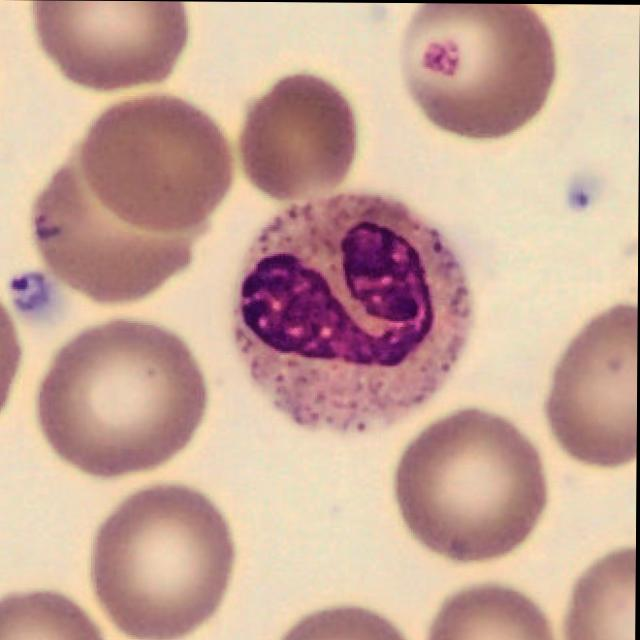Neutrofilo segmentado: (237, 196, 468, 431)
